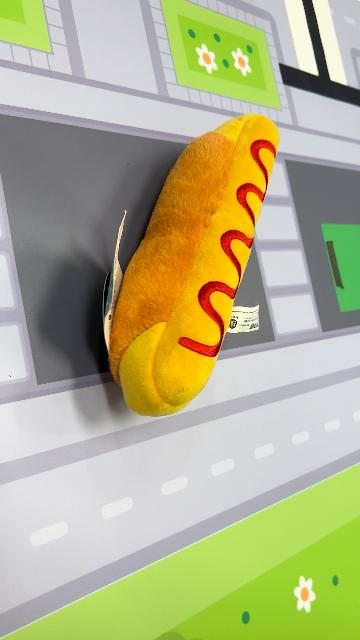hotdog: (104, 112, 282, 418)
